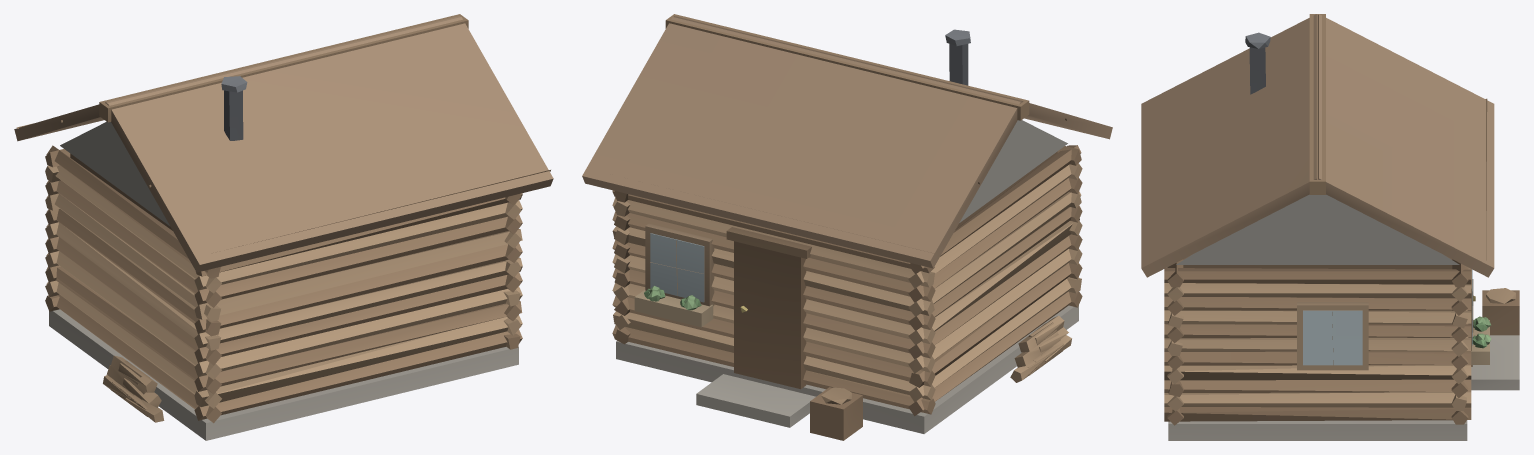
The model's file is home_hut__brown_low.glb.
3 renders of one model, left to right at view 1: azimuth 30°, elevation 25°; view 2: azimuth 150°, elevation 25°; view 3: azimuth 270°, elevation 25°, orthographic. The views are drawn at different scales.
Size of the model in its own units: 5.3 by 4.31 by 5.06.
